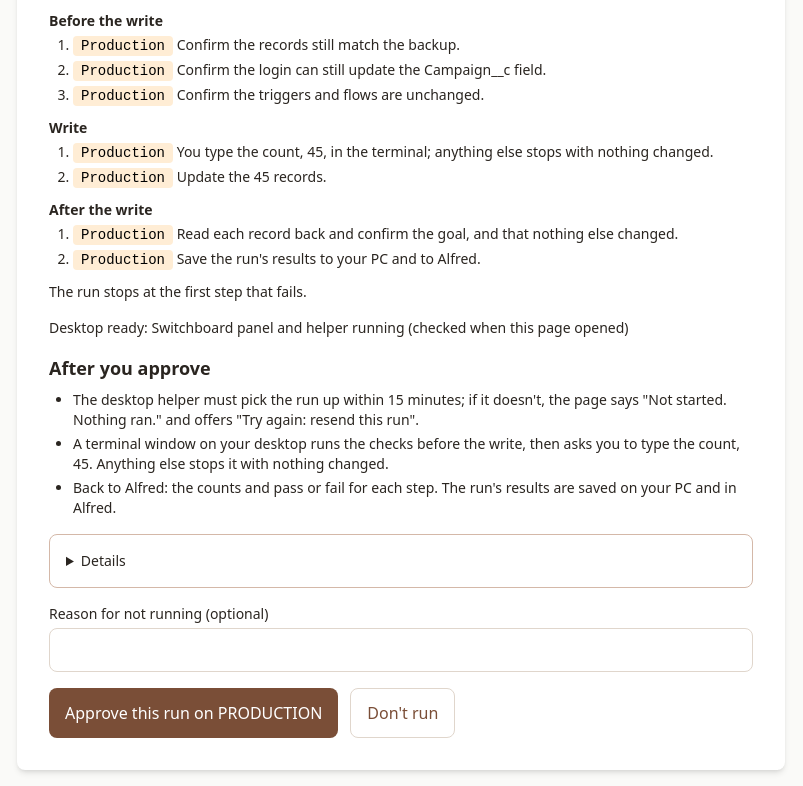
Test: the red bar and the Approve button always appear together › dataop-update-kept, desktop ready, then approved
(page scrolled)
Check: the text with test id "run-desktop" does not show "Checking", box [49,318,628,337]
Click the button "Approve this run on PRODUCTION".
click(194, 713)  # box [49,688,338,738]
(page scrolled)
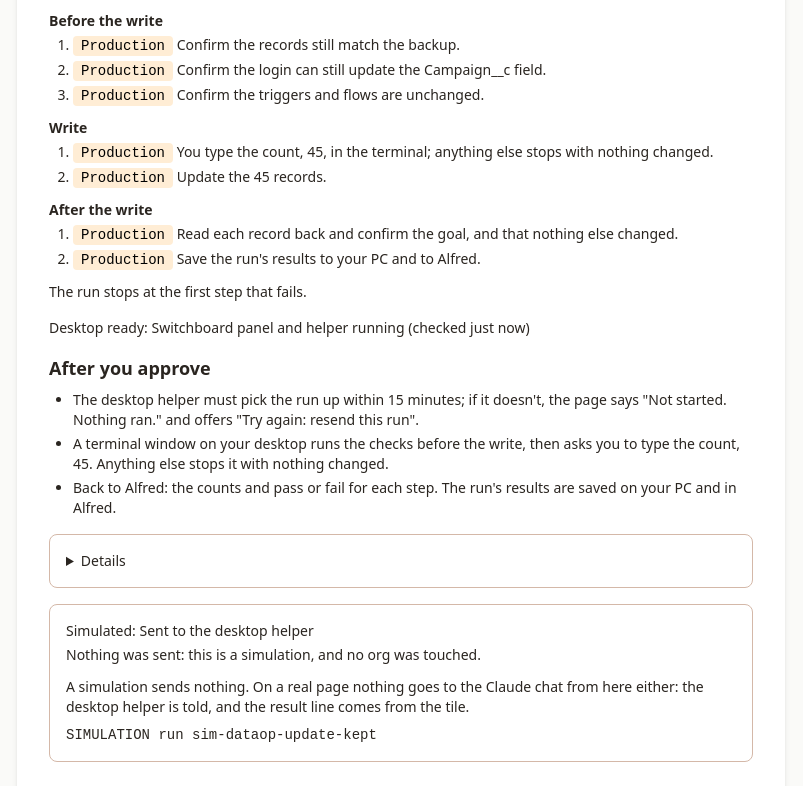
Check: the element with test id "run-sent" is shown, box [49,604,753,762]
